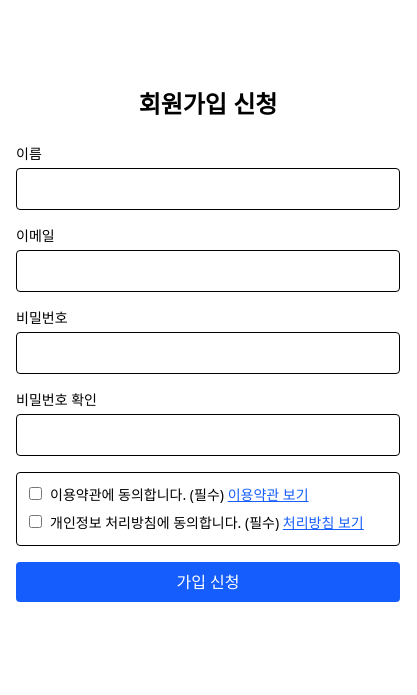
RegisterPage › 빈 폼 제출 시 필수 입력 오류 메시지를 표시한다
The width and height of the screenshot is (417, 695).
Click the button "가입 신청" at (208, 582), box [16,562,400,602]
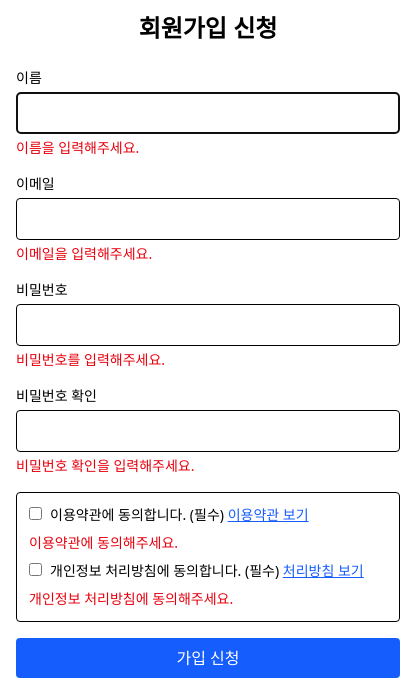
expect the text "이름을 입력해주세요." is shown: met, box [16,138,139,157]
expect the text "이메일을 입력해주세요." is shown: met, box [16,244,152,263]
expect the text "비밀번호를 입력해주세요." is shown: met, box [16,350,165,369]
